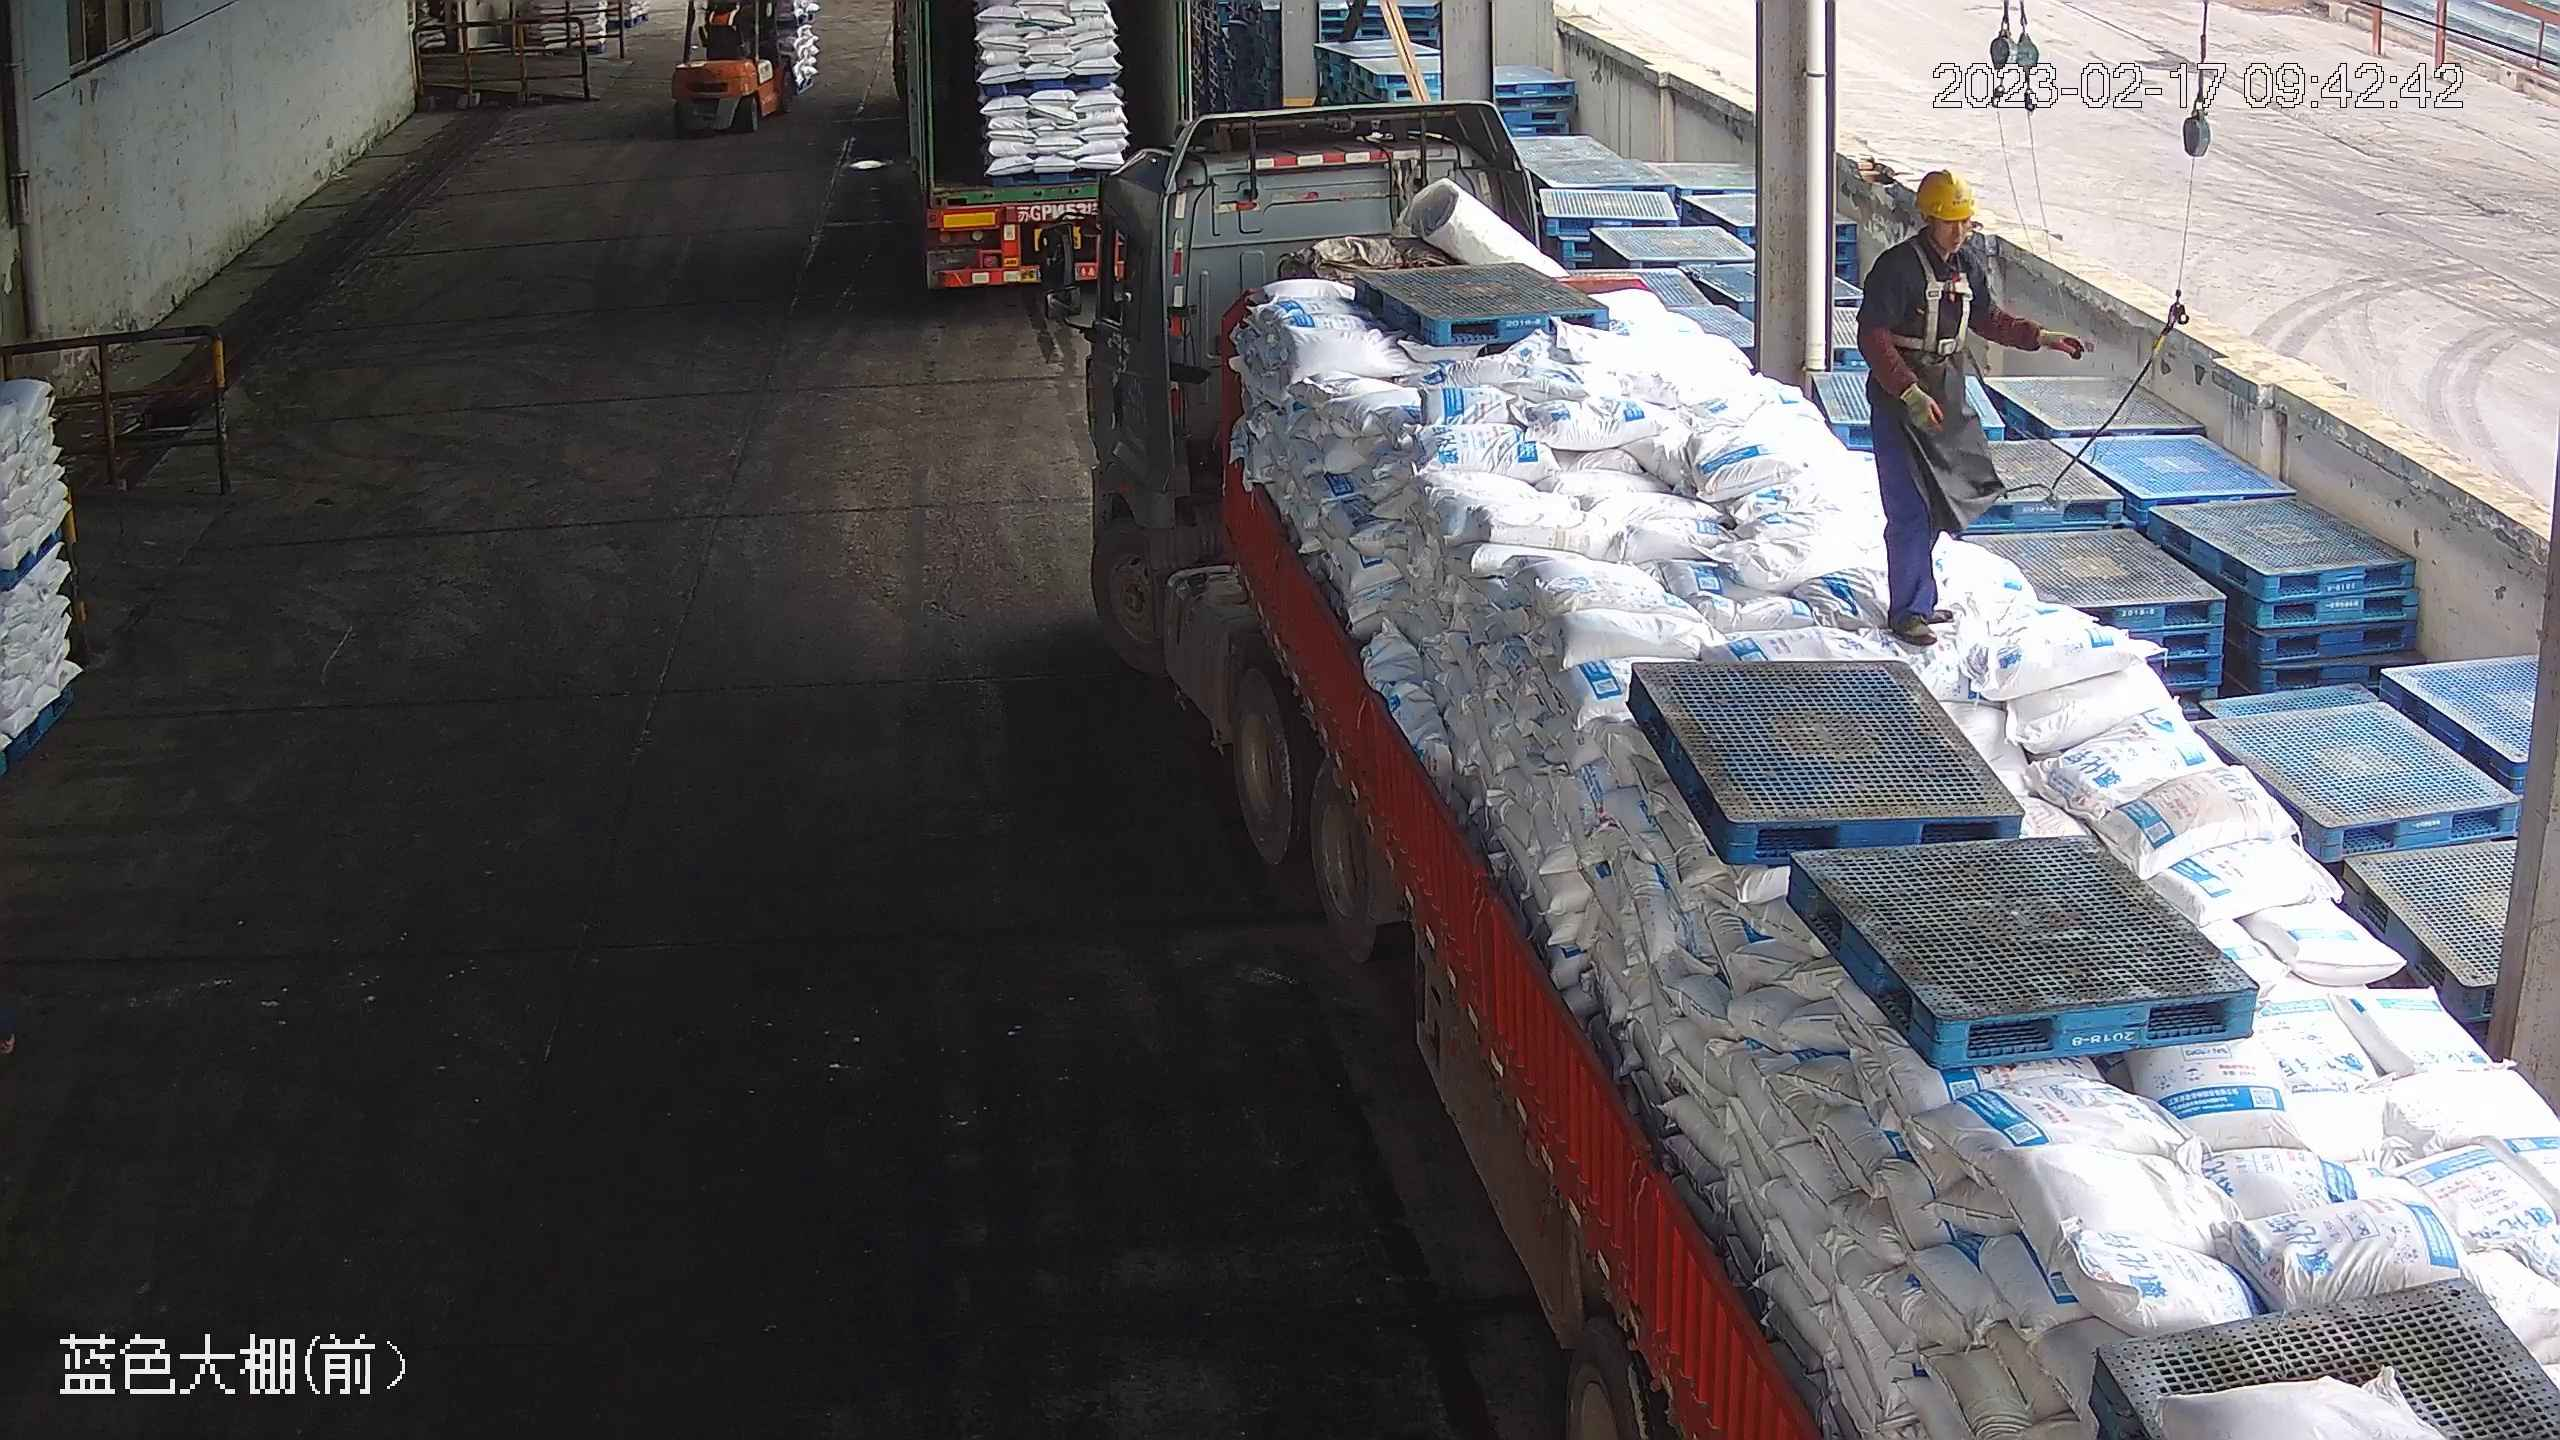belt: (1898, 235, 1982, 356)
head: (1872, 168, 1997, 302)
helmet: (1912, 166, 1977, 223)
people: (1855, 164, 2085, 651)
truck: (1035, 103, 2555, 1440), (895, 1, 1183, 292)
